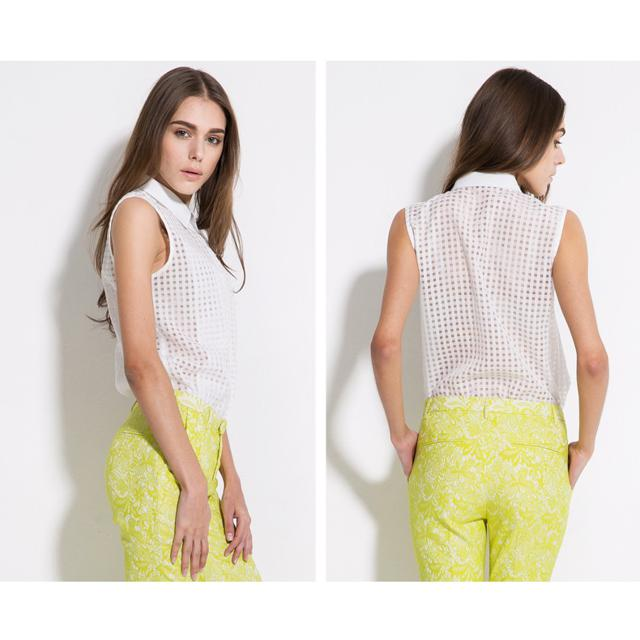Pants_Leggings: (411, 396, 571, 581), (110, 399, 259, 581)
Tops: (400, 169, 571, 404), (105, 170, 240, 416)
